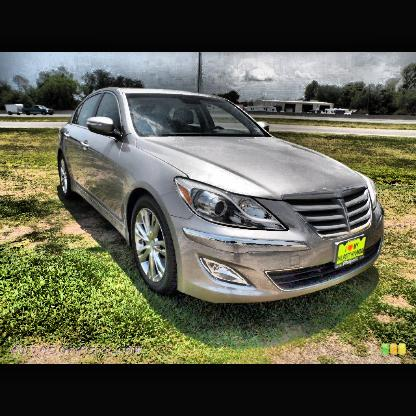Hyundai Genesis Sedan 2012: (59, 88, 385, 305)
